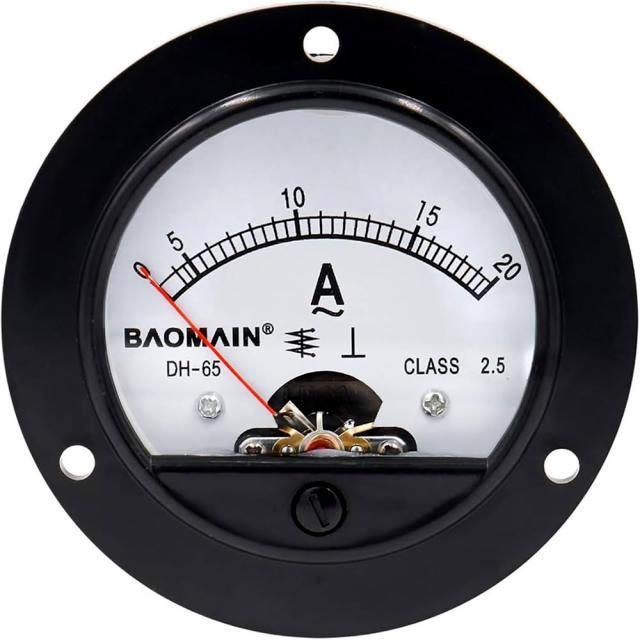Needle_Tip: (134, 251, 157, 289)
Needle_base: (260, 384, 385, 494)
max_value: (465, 234, 542, 311)
min_value: (122, 246, 198, 314)
